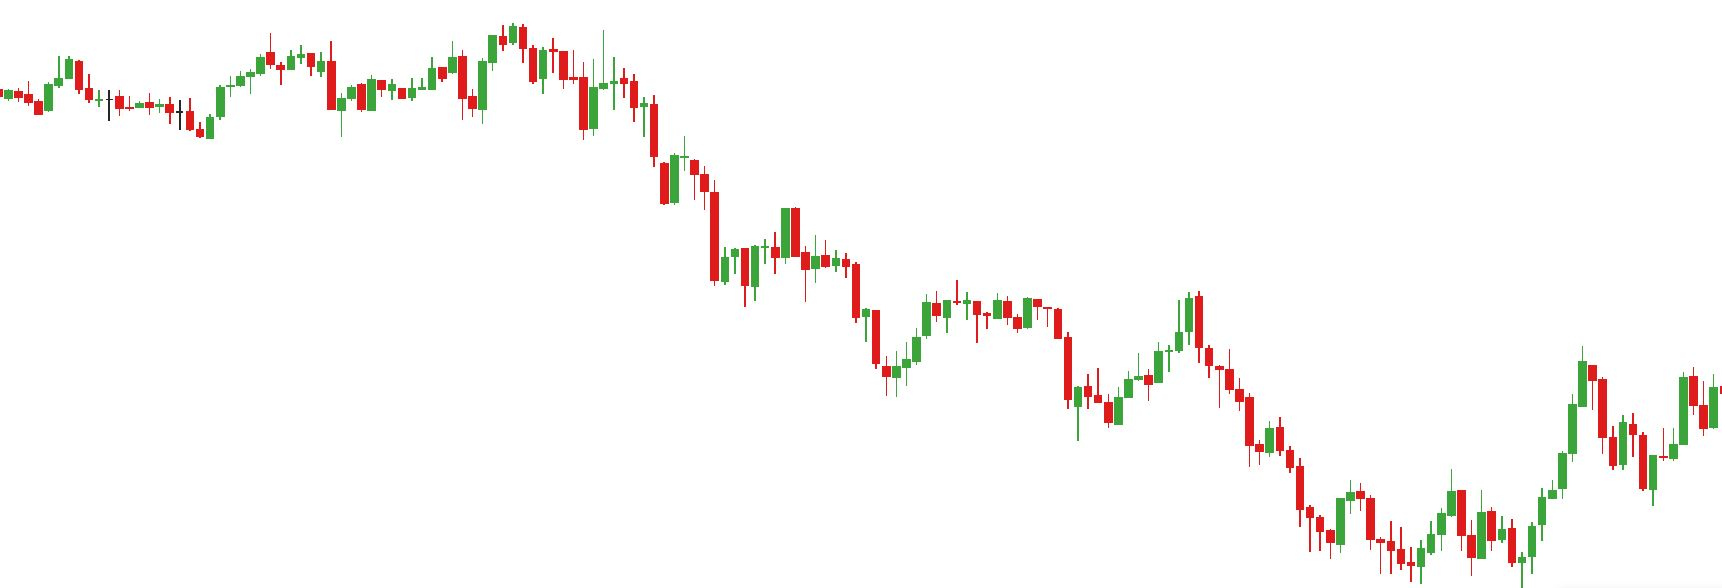buy: (1467, 504, 1538, 588)
sell: (1022, 288, 1207, 387)
